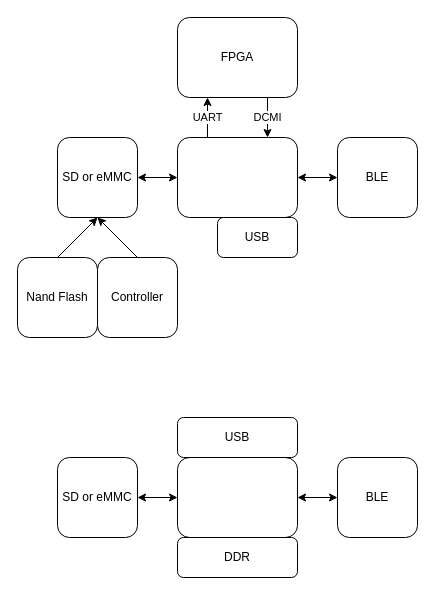
Some shapes in this 435 by 595 pixel diagram are drawn without their labels. Here are the shapes that lost their labels. From the top down, the centre of each, then its label:
the point at 237,177: MCU
the point at 237,497: Zynq
